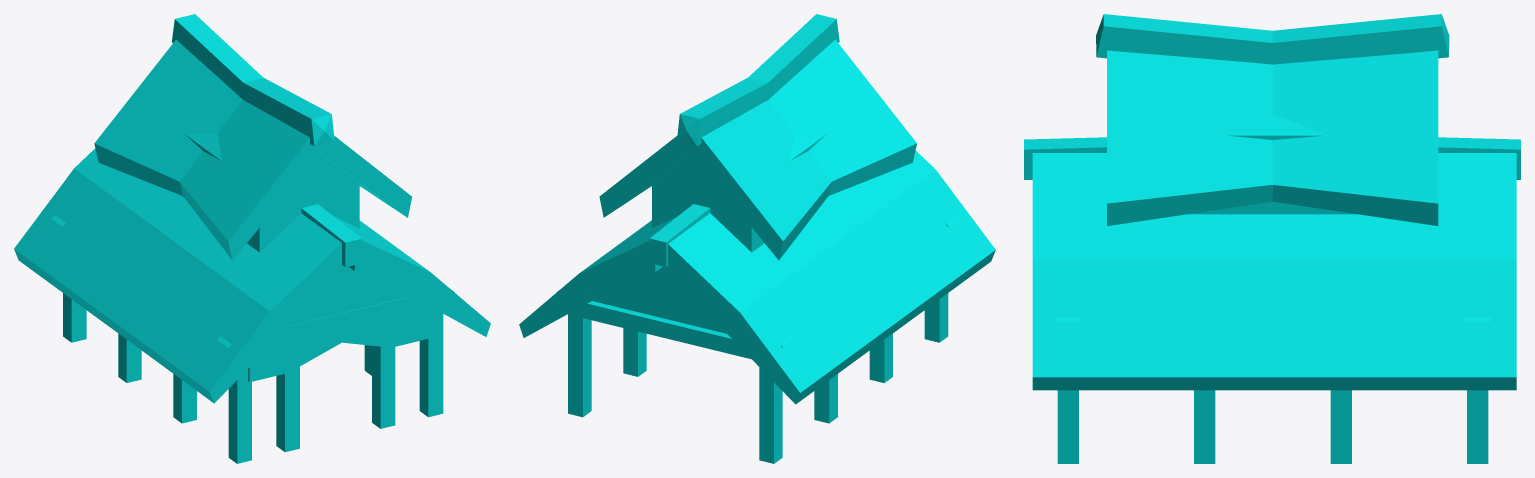
Rendered from SM_Bld_Roof_Thatch_Preset_05_Collision.fbx.
3 renders of one model, left to right at view 1: azimuth 30°, elevation 25°; view 2: azimuth 150°, elevation 25°; view 3: azimuth 270°, elevation 25°, orthographic. The views are drawn at different scales.
Visible parts, largest first — view 1: SM_Bld_Roof_Thatch_Preset_05_Collision; view 2: SM_Bld_Roof_Thatch_Preset_05_Collision; view 3: SM_Bld_Roof_Thatch_Preset_05_Collision.
Part boxes in pixels (box(x1,y1,x2,y2)): SM_Bld_Roof_Thatch_Preset_05_Collision: box(14, 14, 490, 463); SM_Bld_Roof_Thatch_Preset_05_Collision: box(519, 14, 995, 463); SM_Bld_Roof_Thatch_Preset_05_Collision: box(1024, 14, 1520, 463).
Size of the model in its own units: 736 by 771 by 910.
